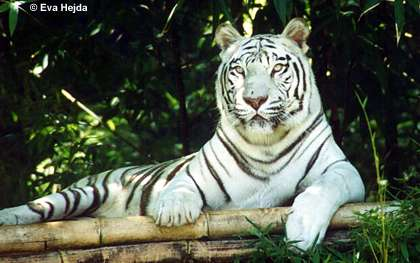Tigre: (68, 34, 368, 240)
